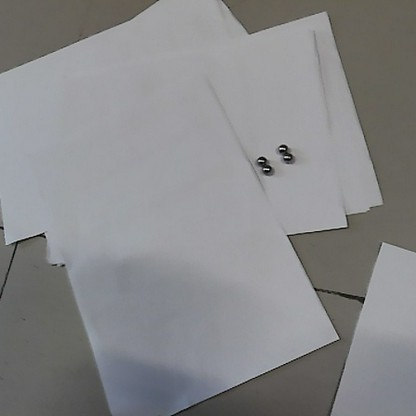ironball: (254, 154, 268, 167), (282, 150, 293, 166), (276, 142, 289, 155), (261, 163, 272, 175)
